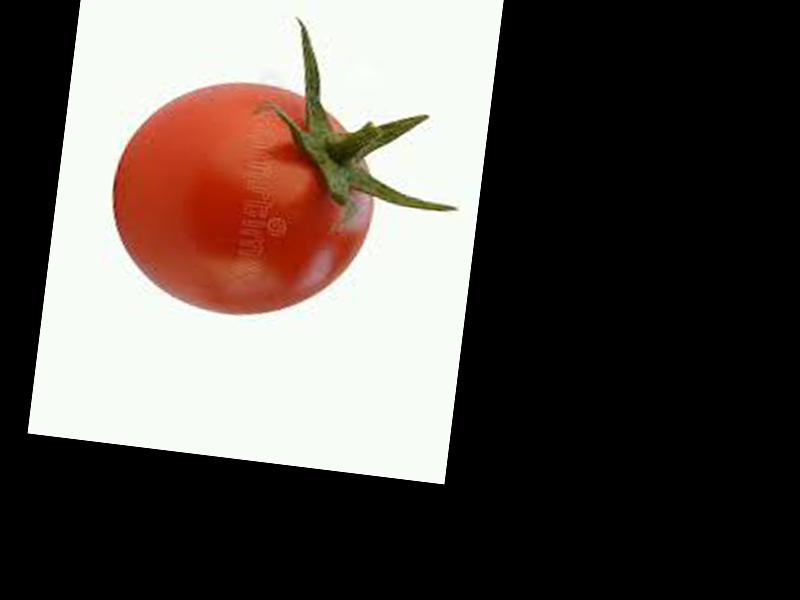Tomato: (99, 70, 384, 330)
